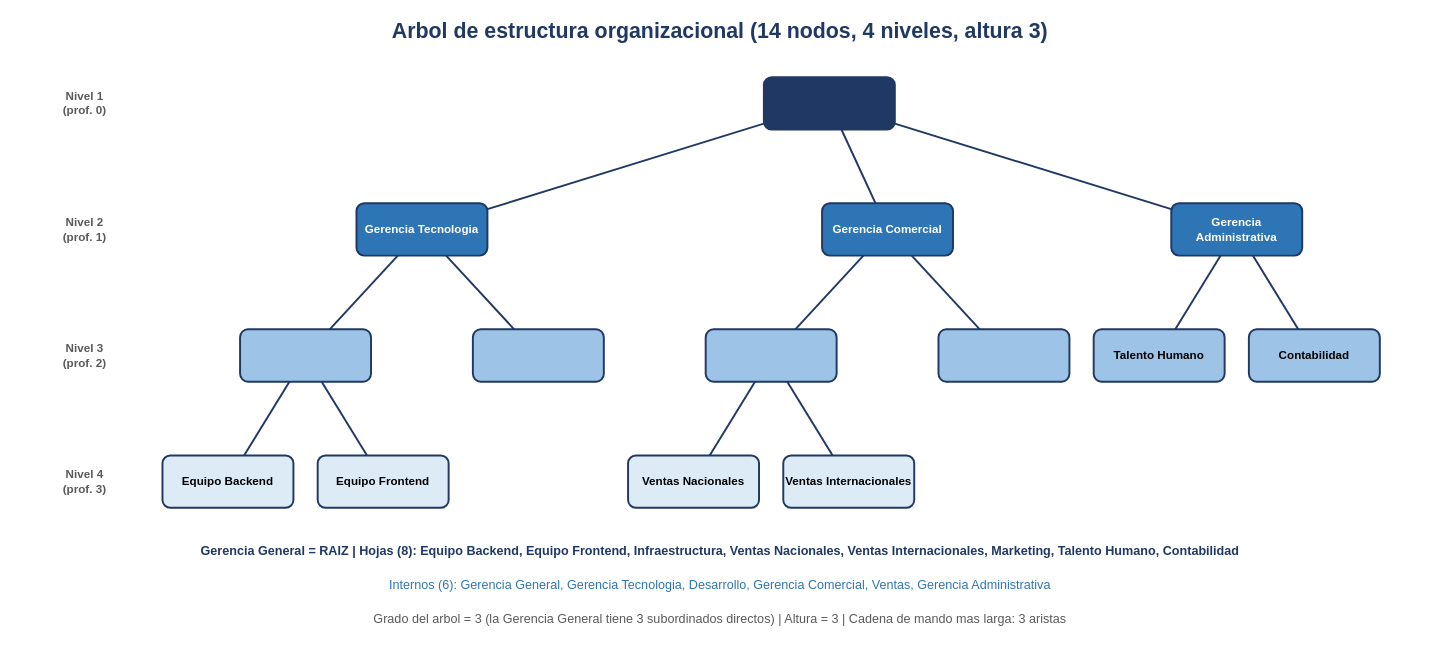
Image size: 1439x647. Some labels were removed from this diagram. Each missing label, with the box of its shape:
Desarrollo: (239, 328, 372, 382)
Gerencia General: (762, 76, 895, 130)
Infraestructura: (471, 328, 604, 382)
Marketing: (937, 328, 1070, 382)
Ventas: (704, 328, 837, 382)
